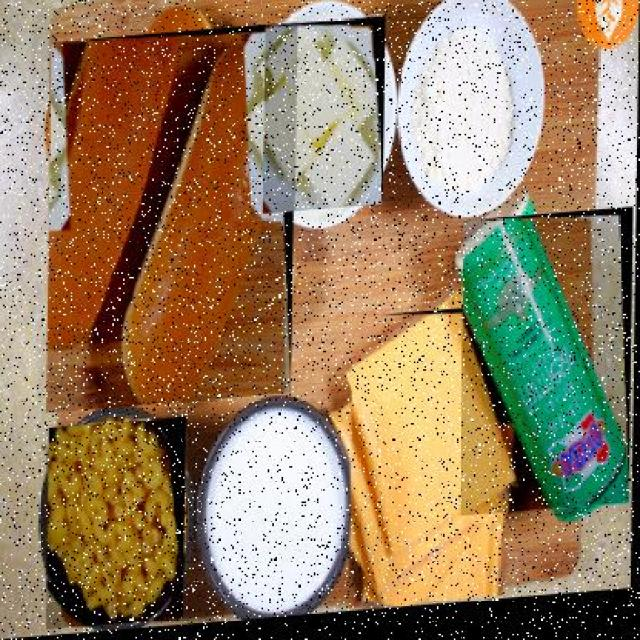bread: (48, 25, 298, 413)
butter: (264, 19, 387, 218)
cheese: (462, 216, 636, 524), (352, 312, 510, 614)
noodle: (48, 418, 189, 630)
